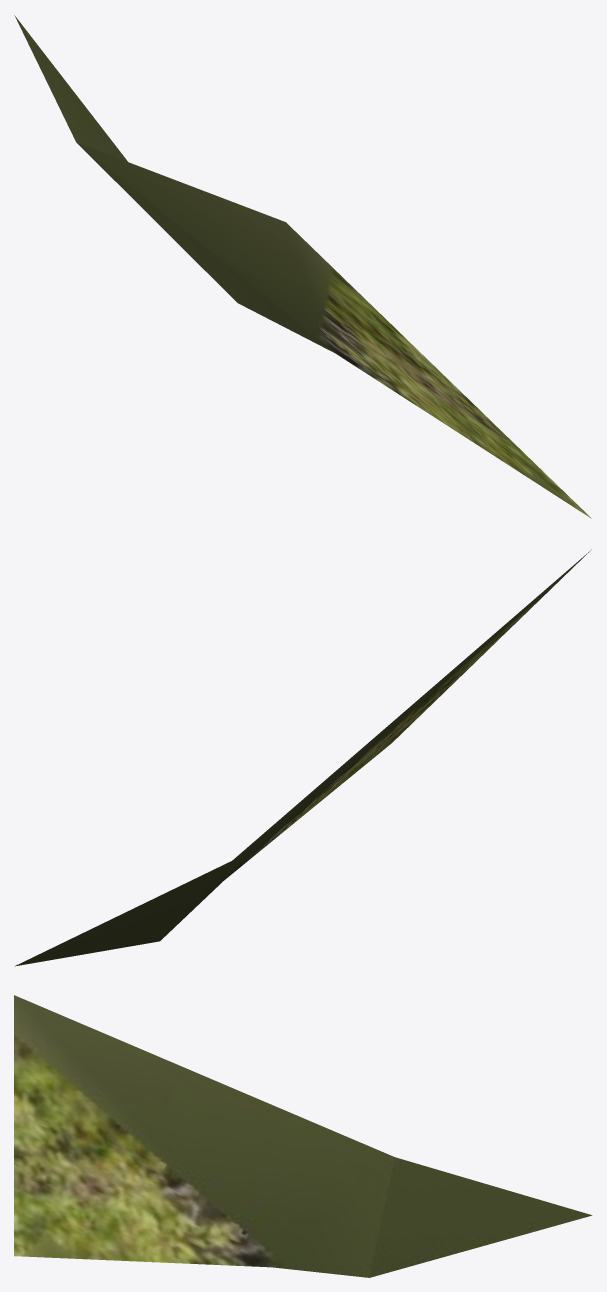
3 renders of one model, top to bottom at view 1: azimuth 30°, elevation 25°; view 2: azimuth 150°, elevation 25°; view 3: azimuth 270°, elevation 25°, orthographic. The views are drawn at different scales.
Size of the model in its own units: 0.8869 by 1.15 by 2.9.
Materials: 1 (1 with a texture image).
